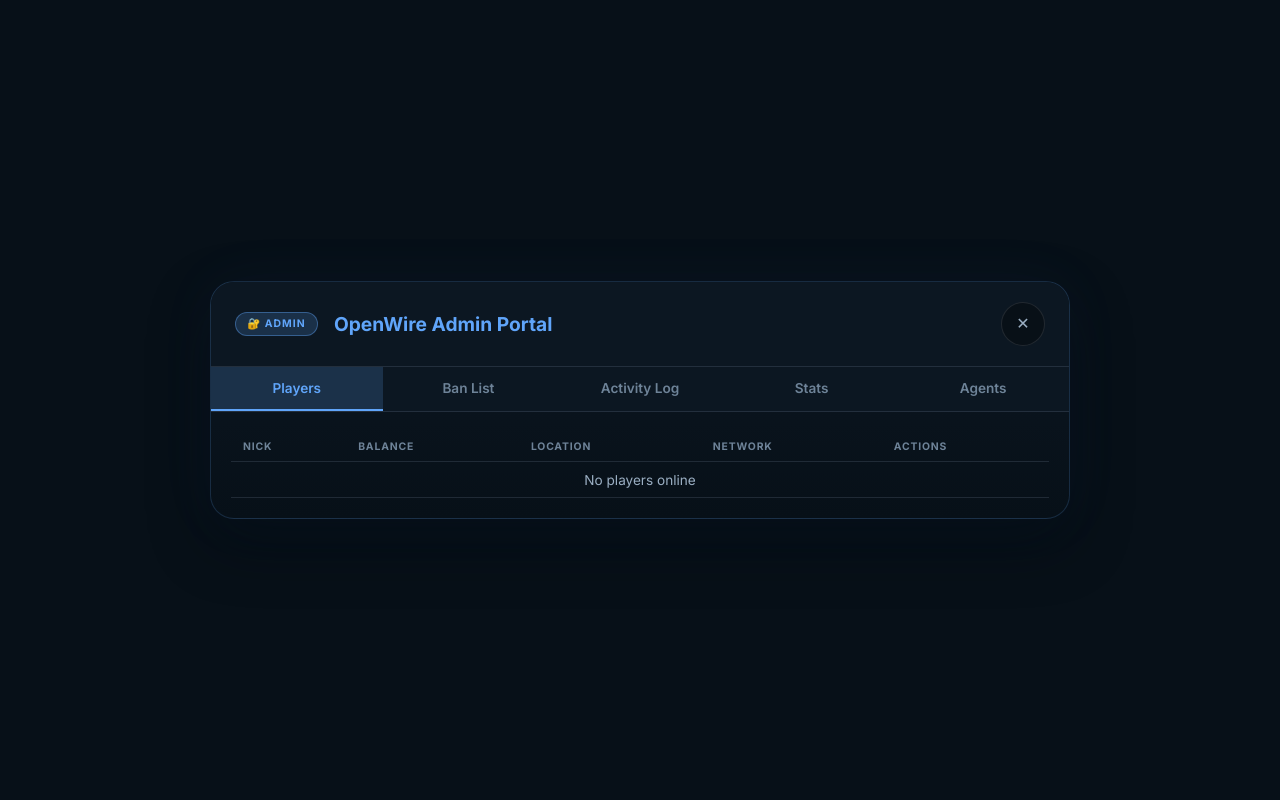
it: AdminPortal — Tab navigation › switches to Activity Log tab and shows empty state
The image size is (1280, 800).
Click the button "Activity Log" at point(640, 389), box [554, 367, 726, 411]
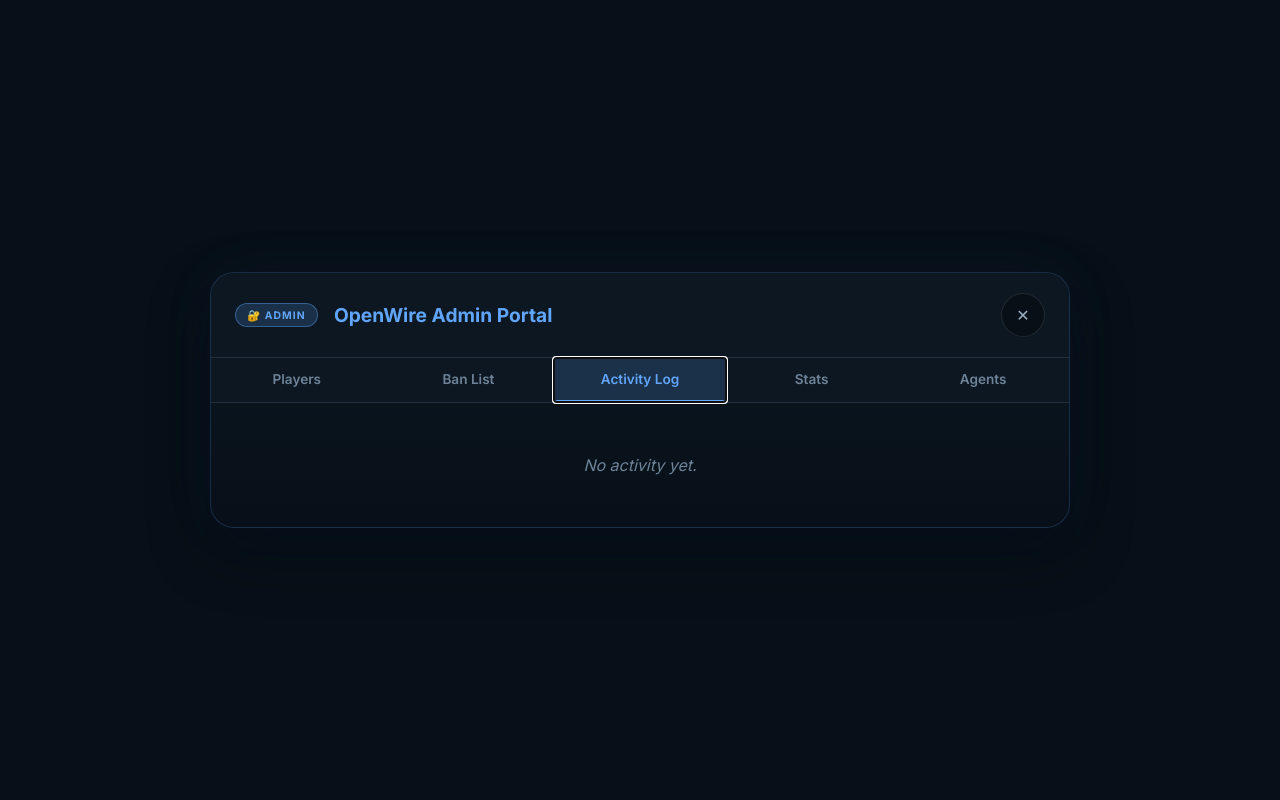
Check: the text "No activity yet." is shown, box [583, 455, 696, 475]
